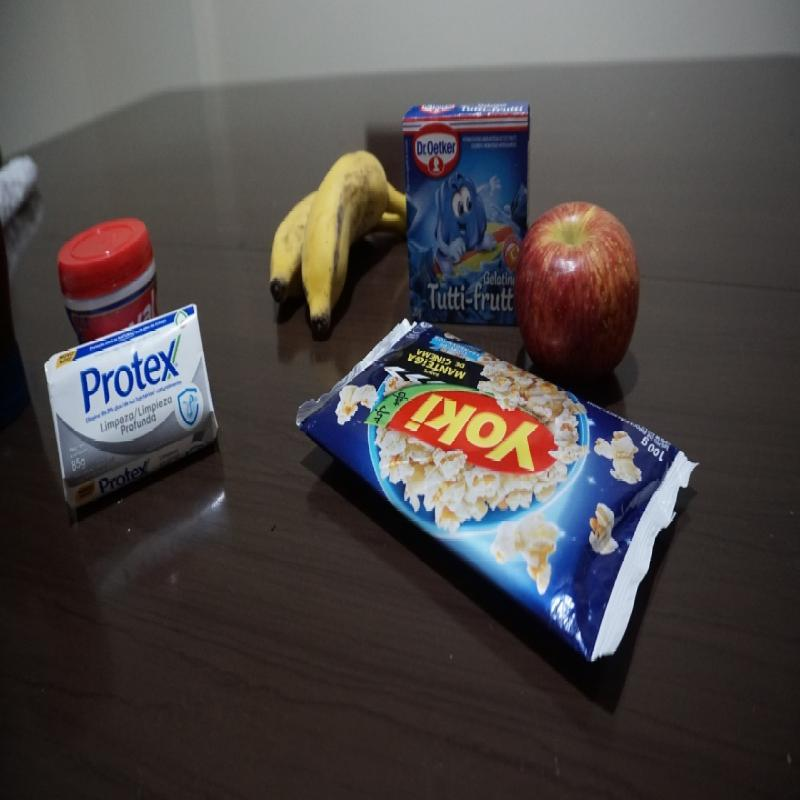Apple: (513, 201, 642, 392)
Banana: (268, 145, 406, 342)
Gelatine: (398, 98, 532, 332)
Popcorn: (294, 316, 700, 667)
Soap: (43, 300, 221, 511)
Yeast: (55, 215, 168, 352)
